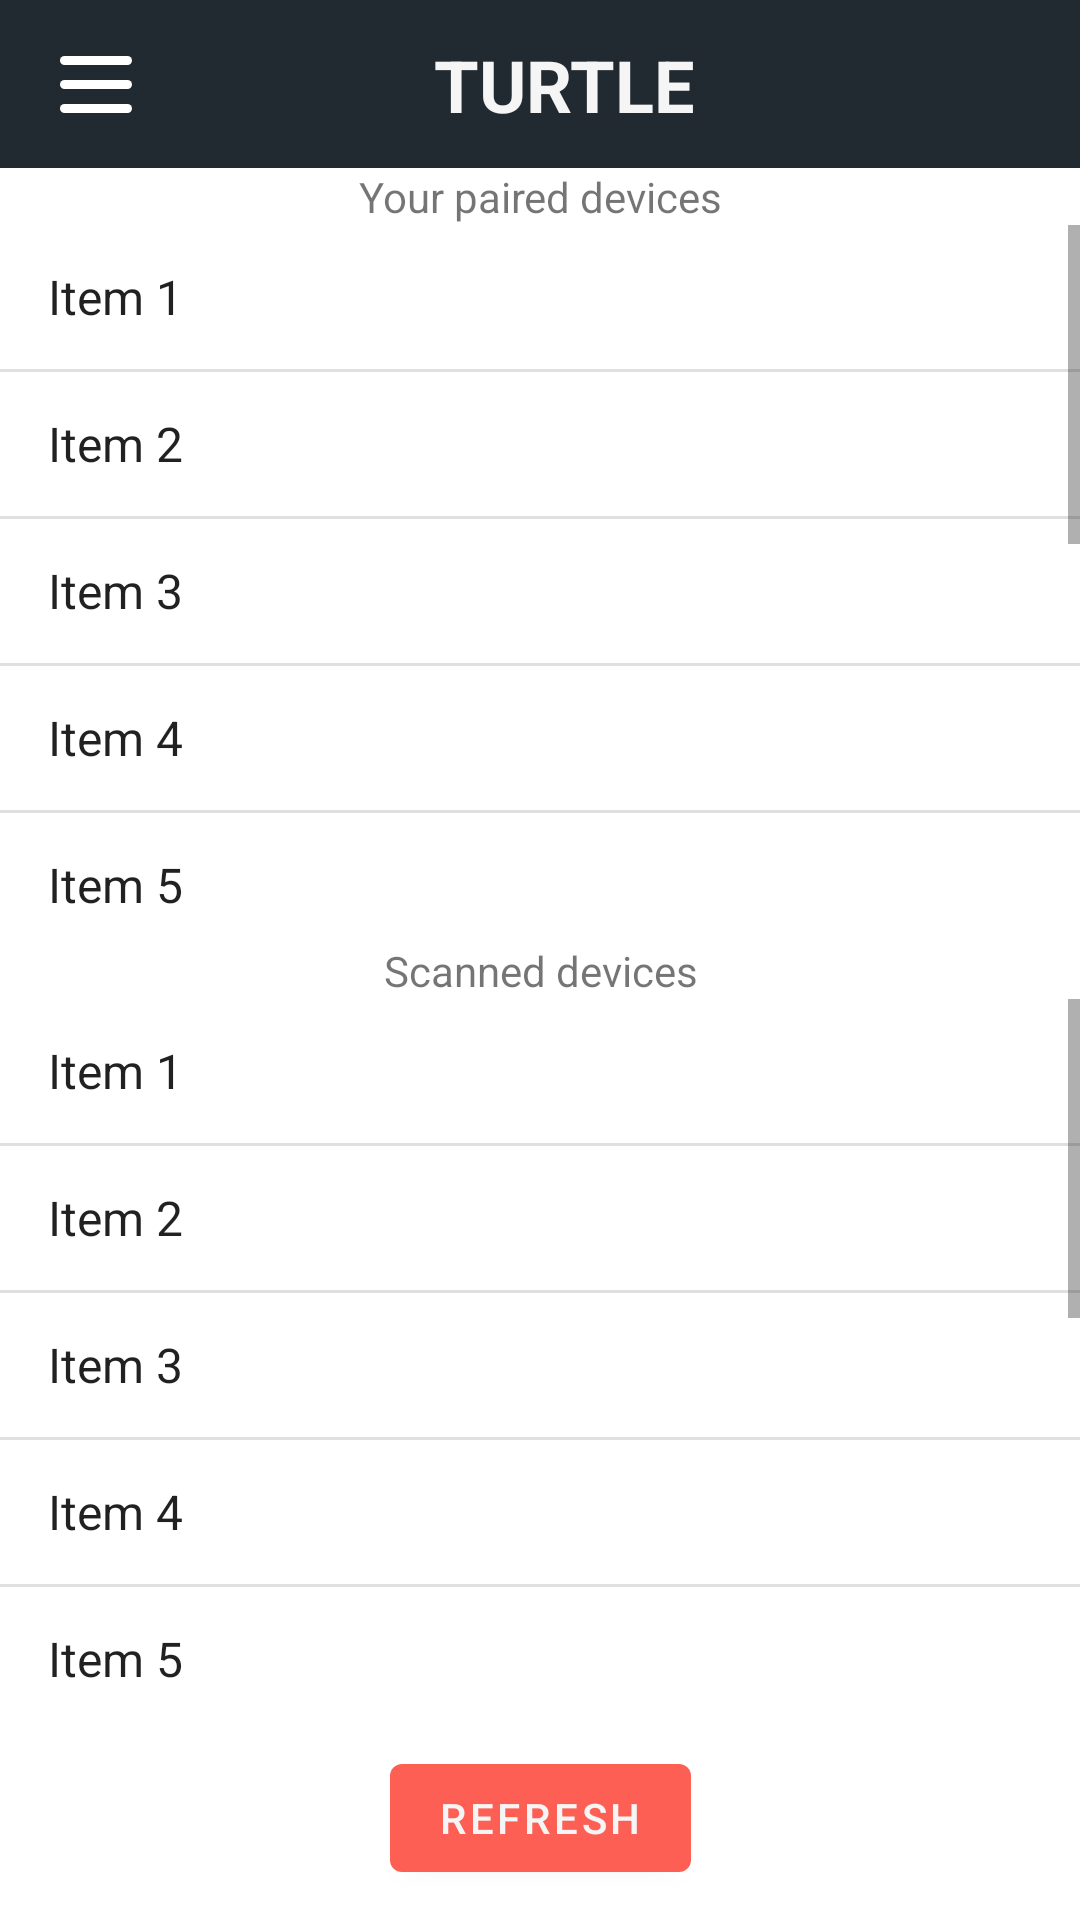

Locate icon controls on the screen. Image size 1080 x 1920, boxes as bbox=[x1, y1, x2, y2].
Menu button: bbox=[60, 56, 132, 113]
